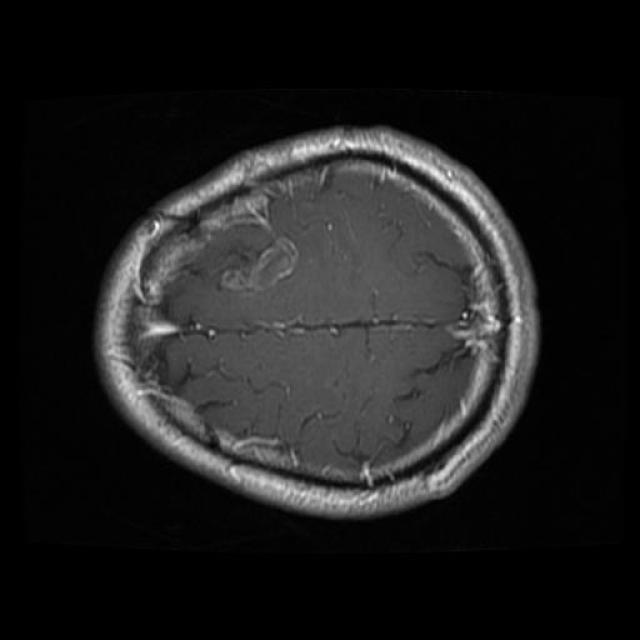Glioma: (220, 234, 298, 290)
